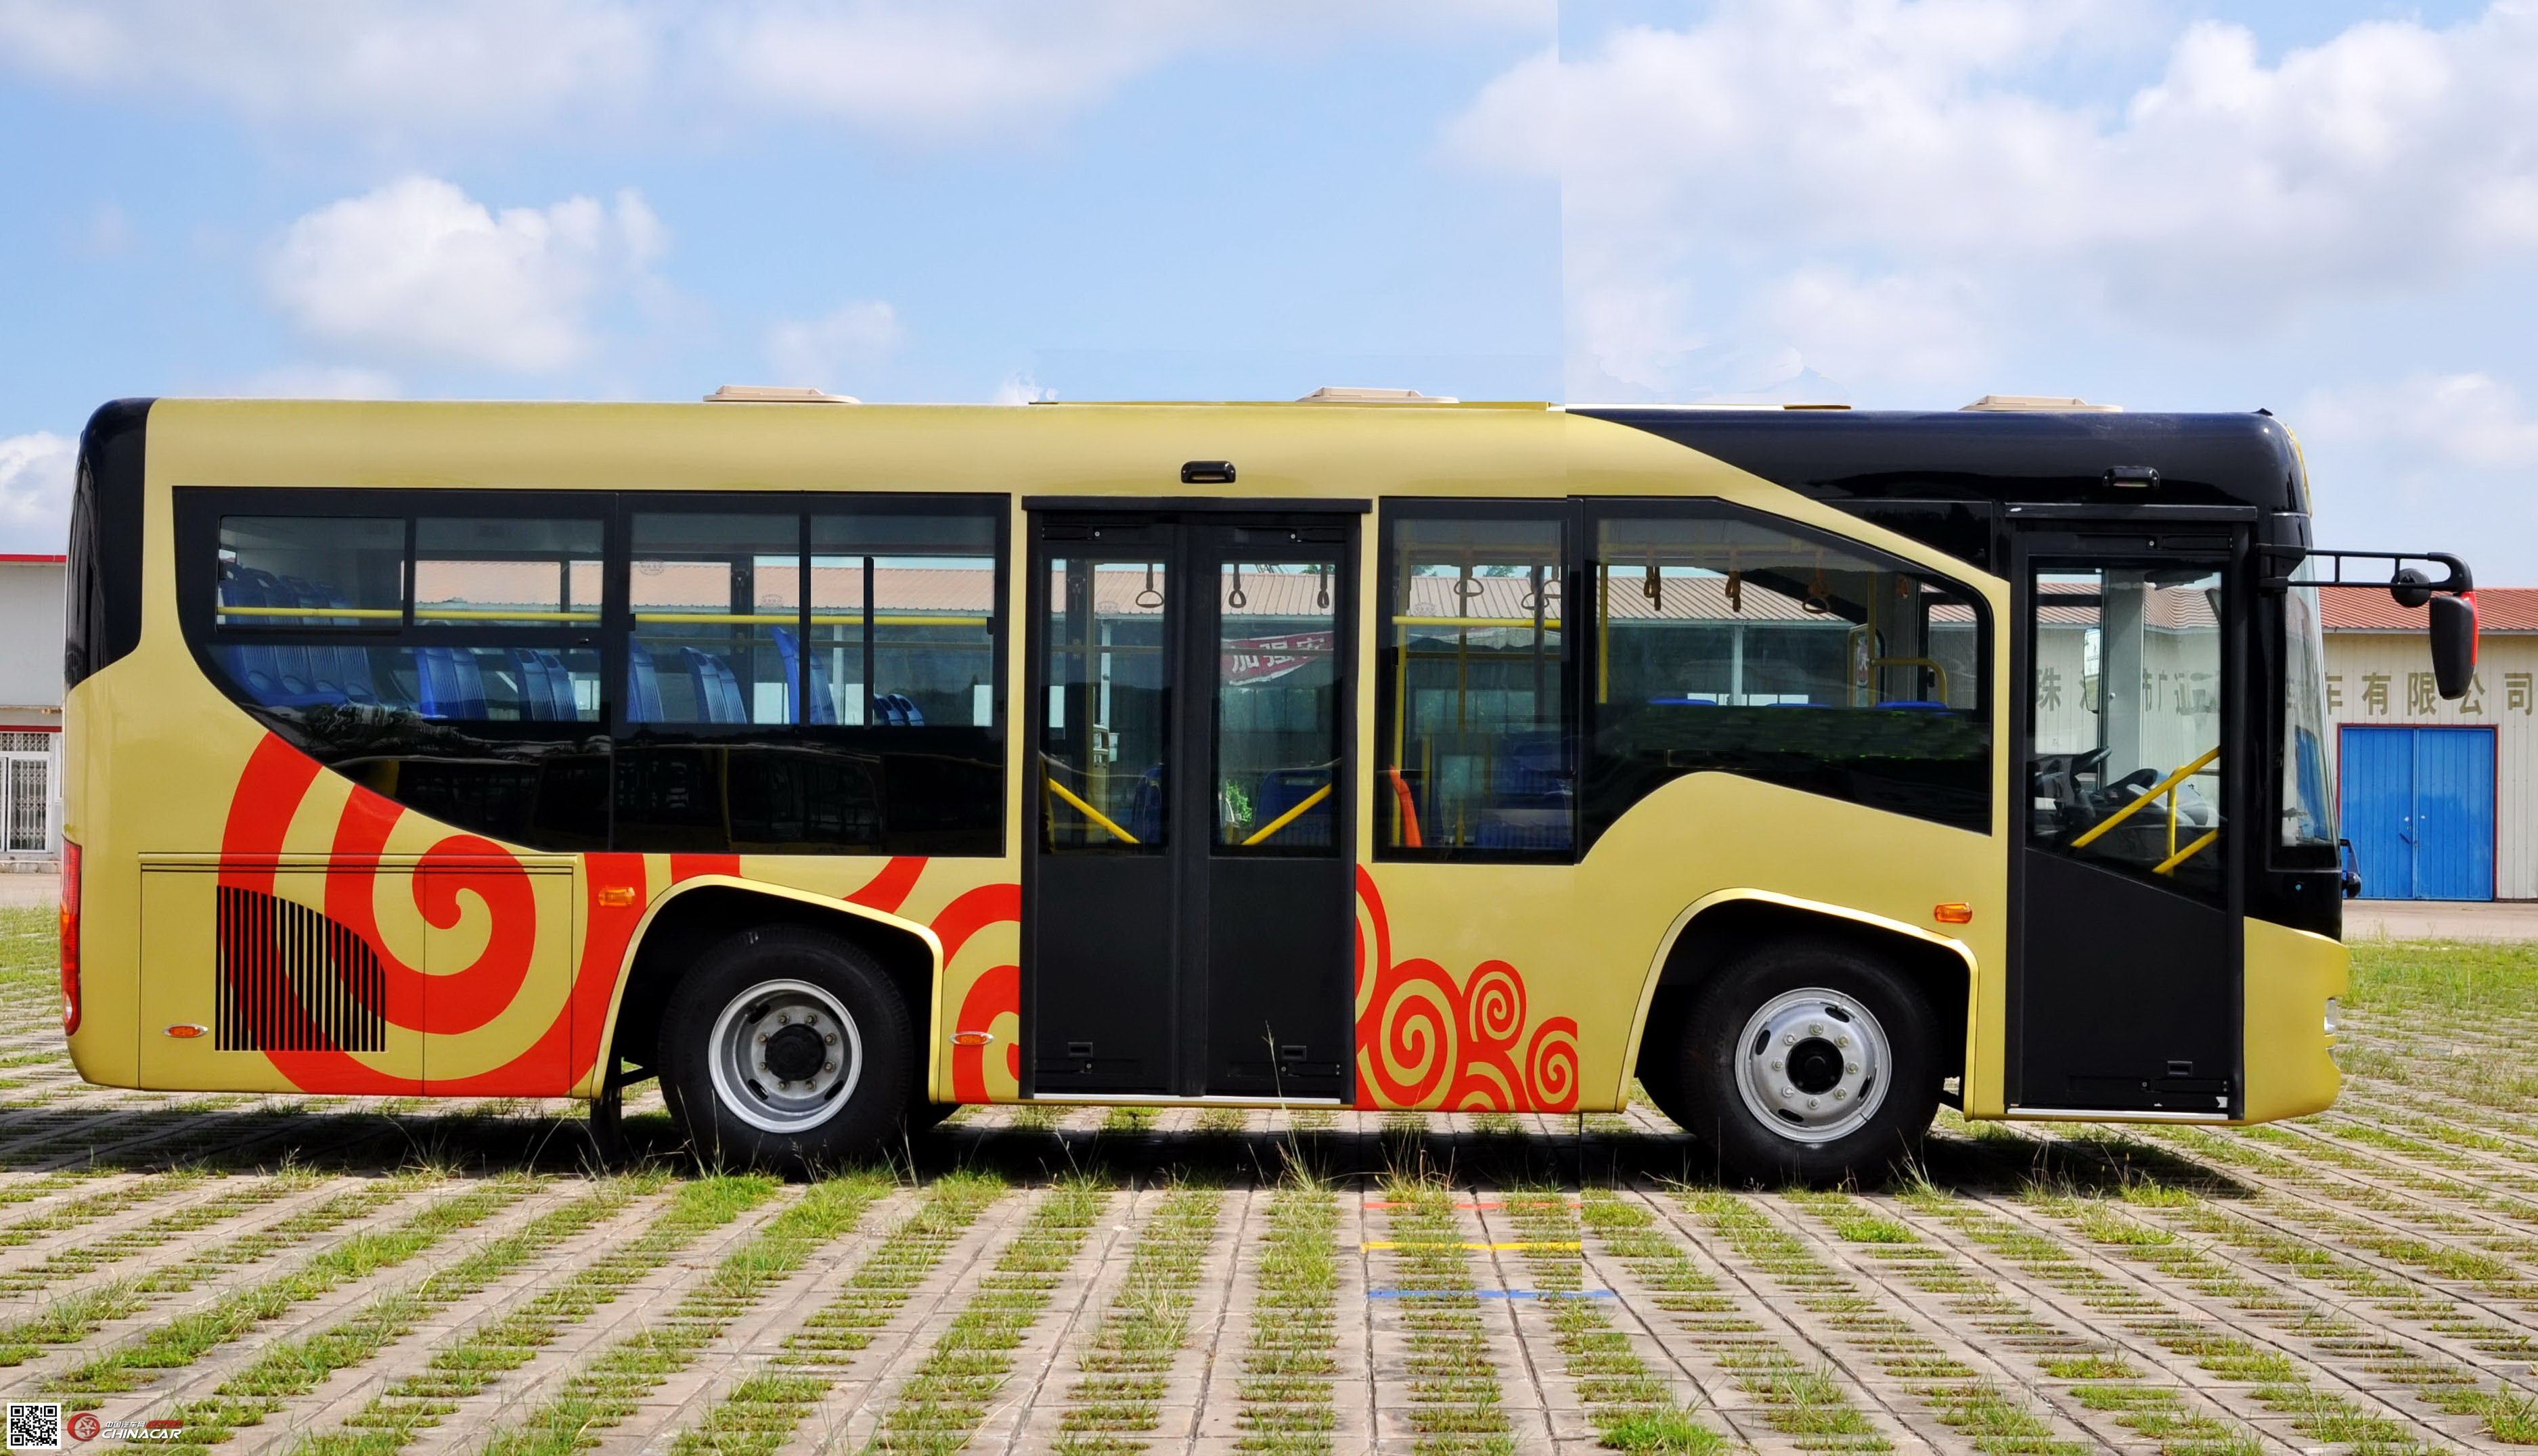bus: (24, 287, 2467, 1247)
